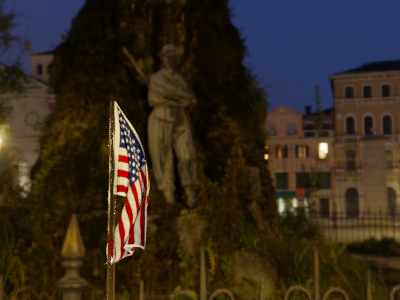America flag: (110, 101, 150, 266)
